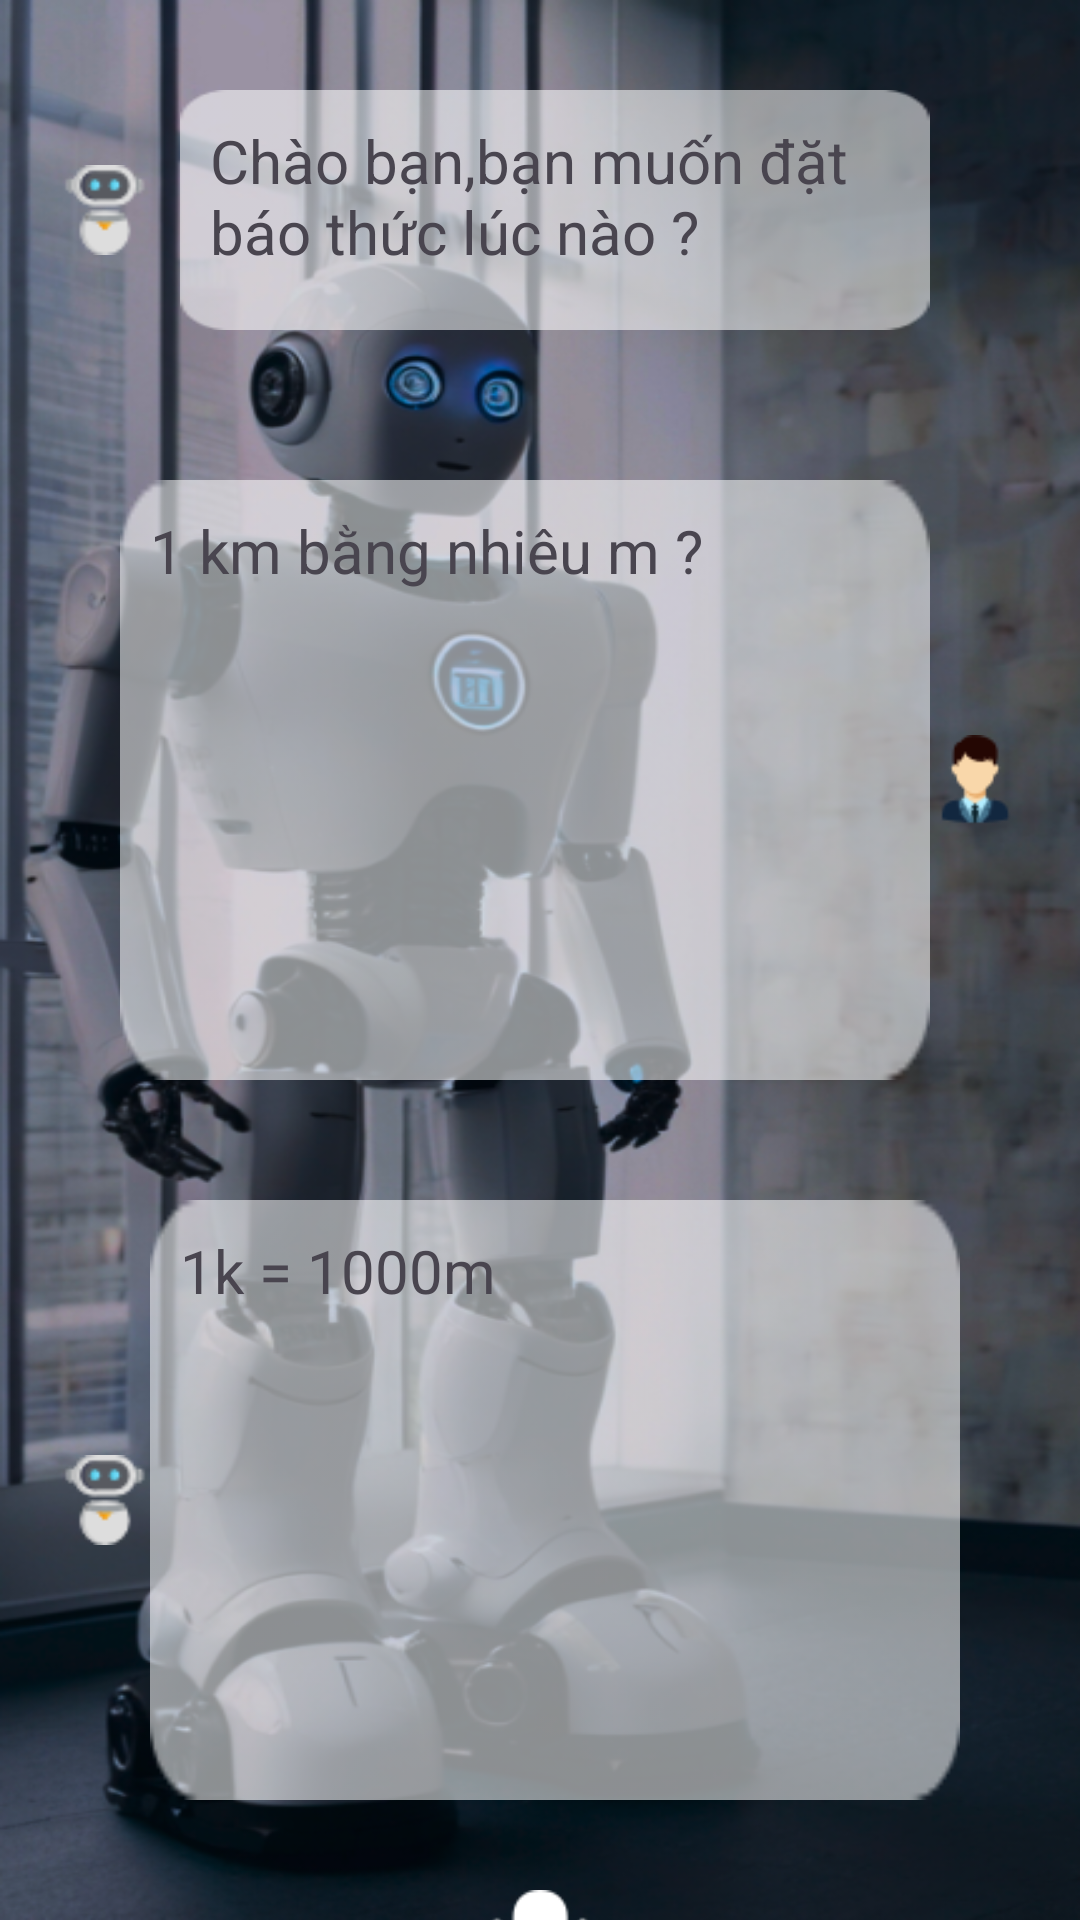

Icon click points for this 1080 × 1920 phone screenshot, format point (x, y):
user: point (975, 779)
